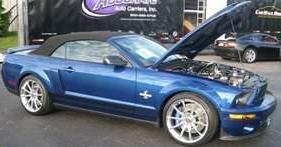front_view: (222, 77, 278, 138)
headlight: (217, 84, 249, 110)
side_glass: (42, 35, 137, 73)
